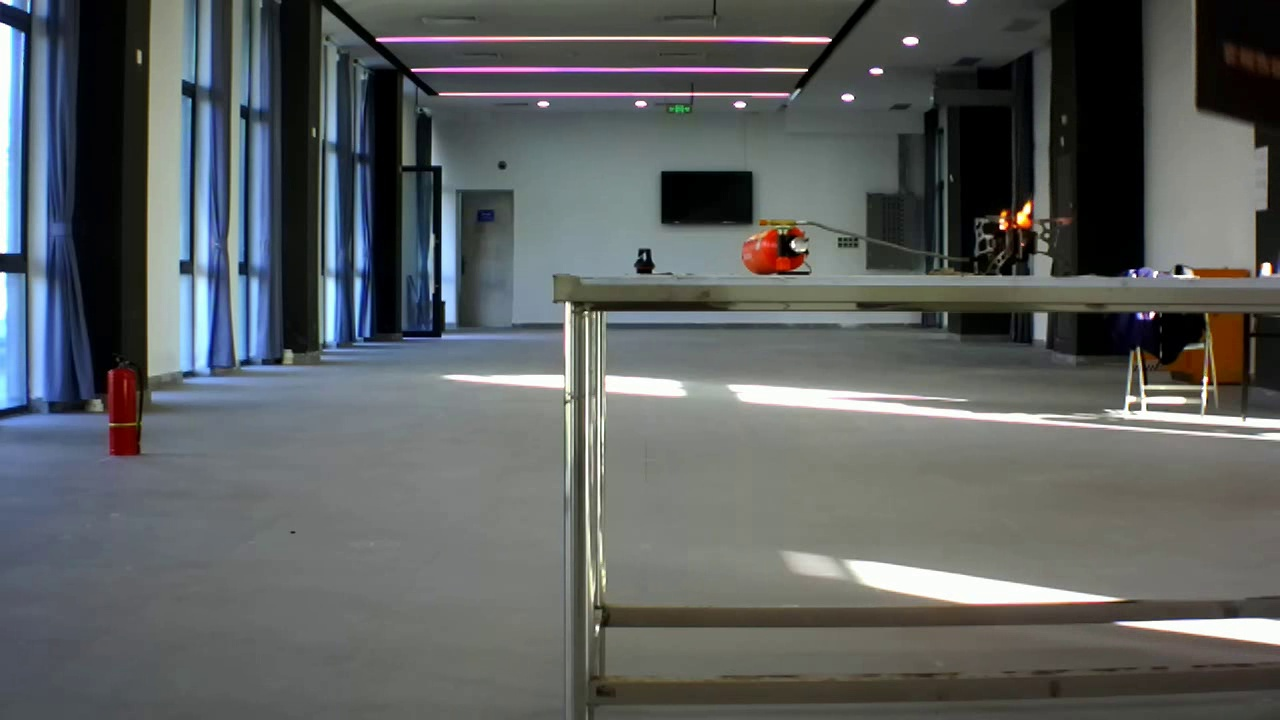Fire: (991, 198, 1036, 236)
